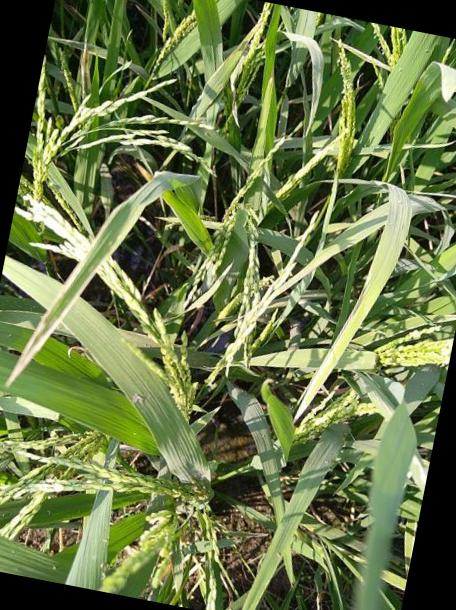Leaf Blight: (5, 171, 200, 388), (293, 184, 412, 426), (266, 244, 342, 306), (229, 54, 244, 129), (81, 46, 92, 99)
